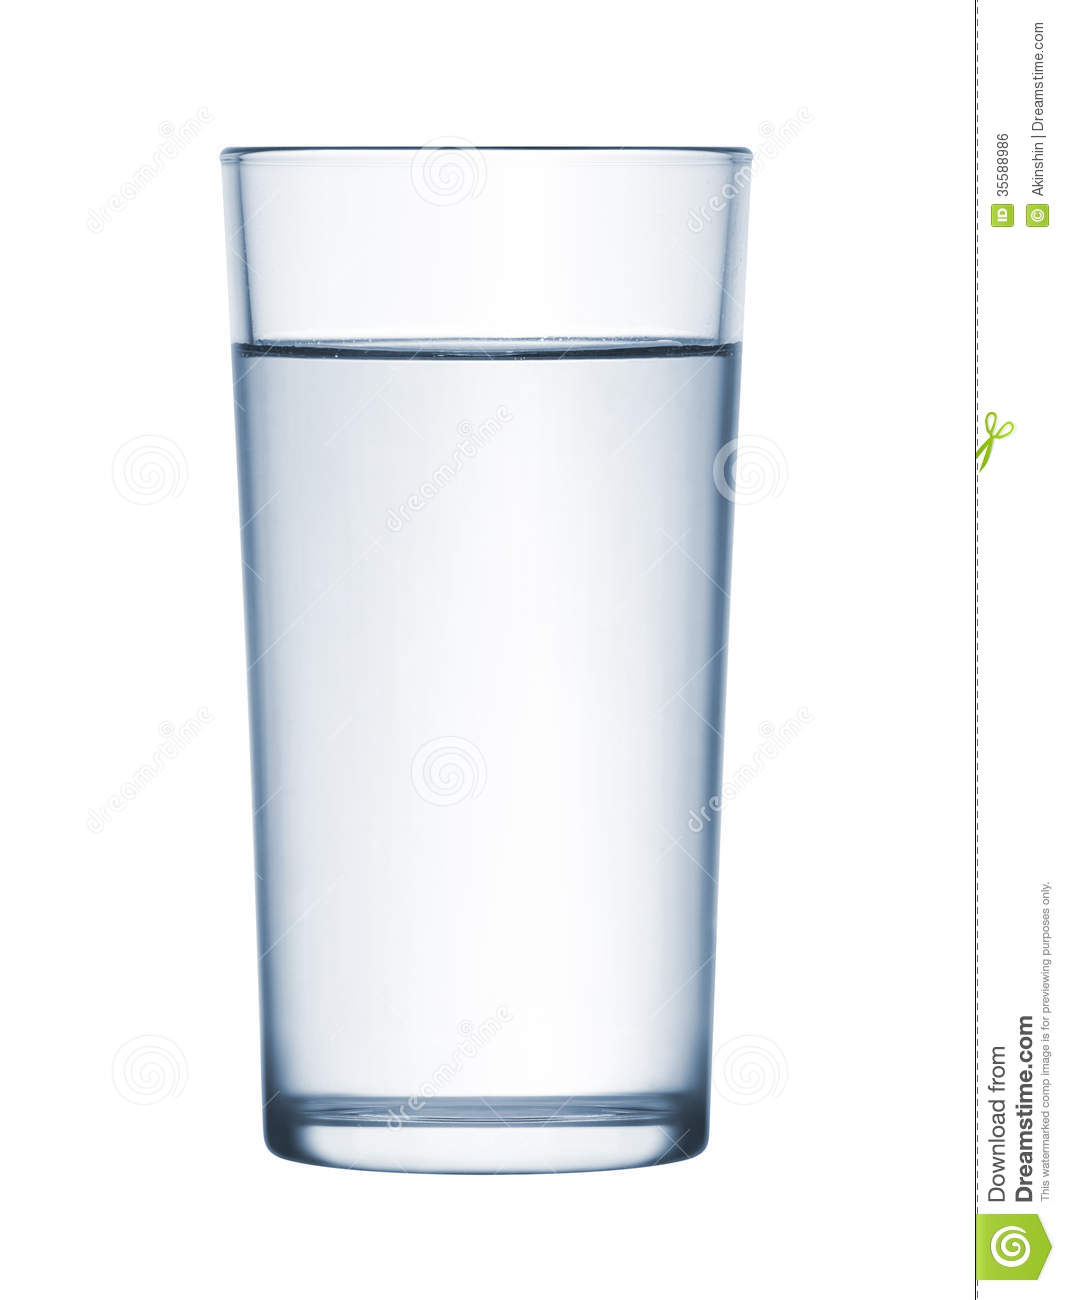glass of water: (235, 133, 711, 1172)
